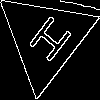H: (20, 13, 75, 72)
